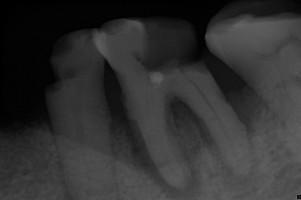Dental Caries: (112, 84, 268, 200)
